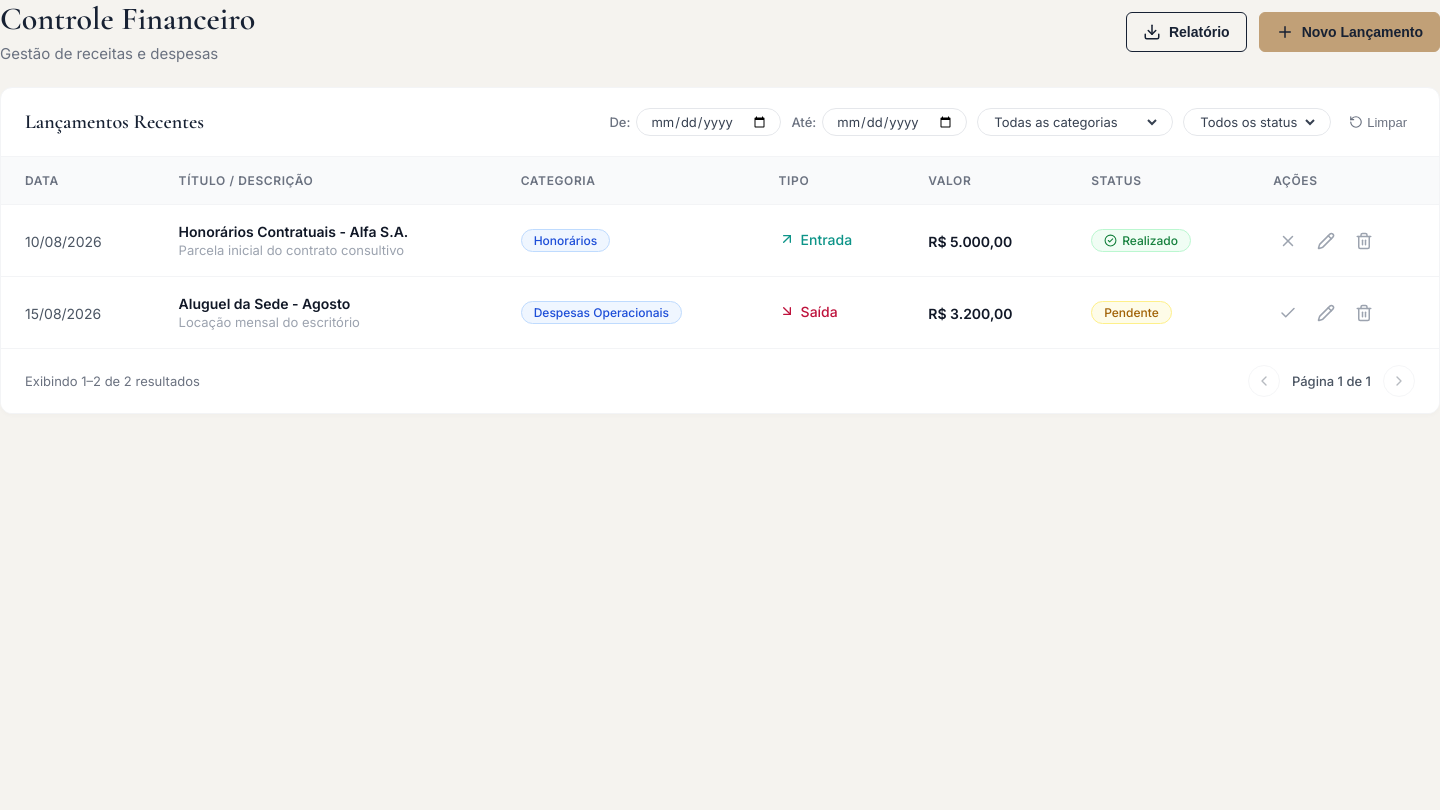
Financas Integration Tests (Full Frontend Stack) › alterna o status do lançamento (PATCH /lancamentos/:id/alternar-status) e exclui lançamento via DeleteLancamentoModal (DELETE /lancamentos/:id)
Expected: the text "Honorários Contratuais - Alfa S.A." is shown, [179,223,408,240]
Click the button named "Marcar como realizado": click(1288, 313) [1273,298,1303,328]
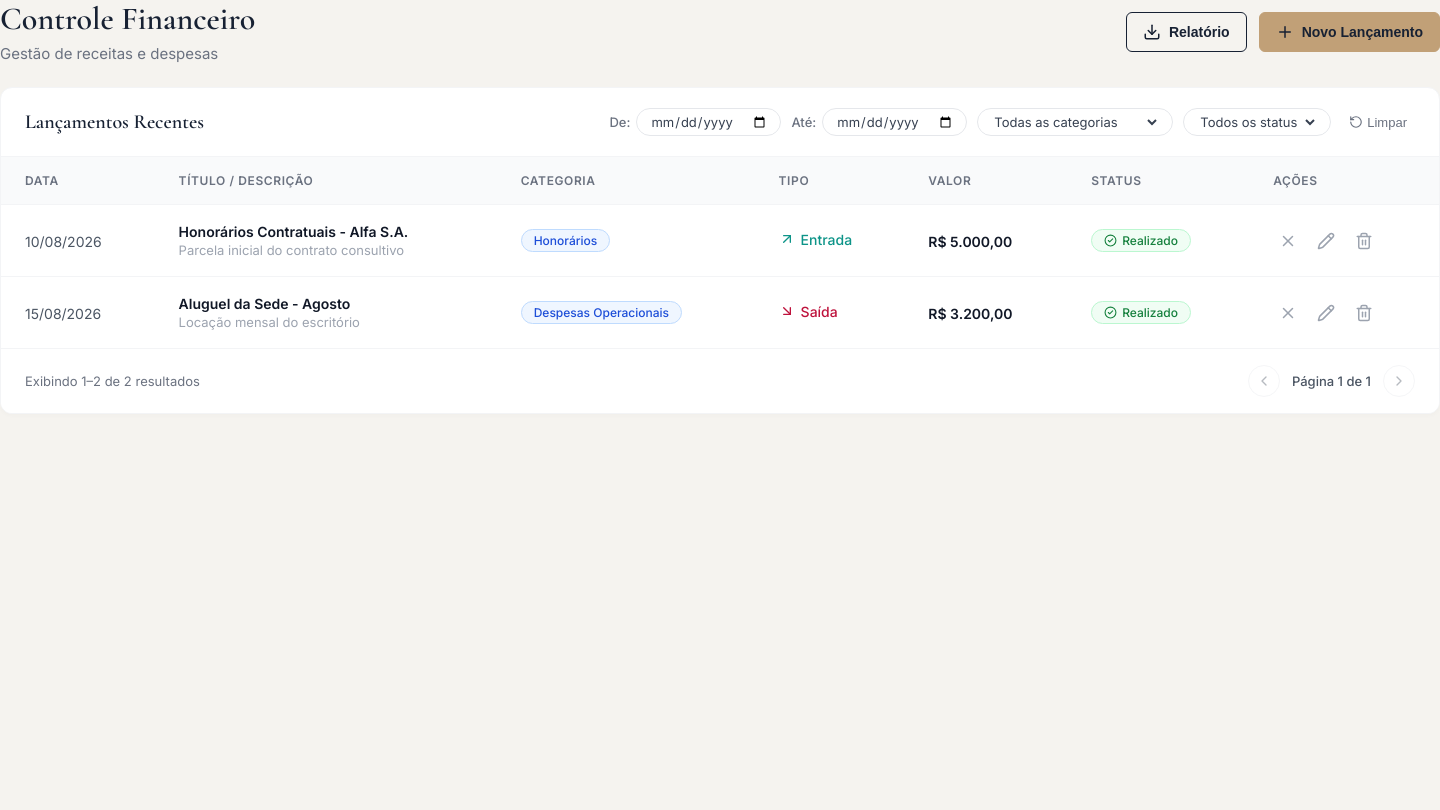
Click the button named "Excluir lançamento" in the row of "10/08/2026": click(1364, 241) [1349,226,1379,256]
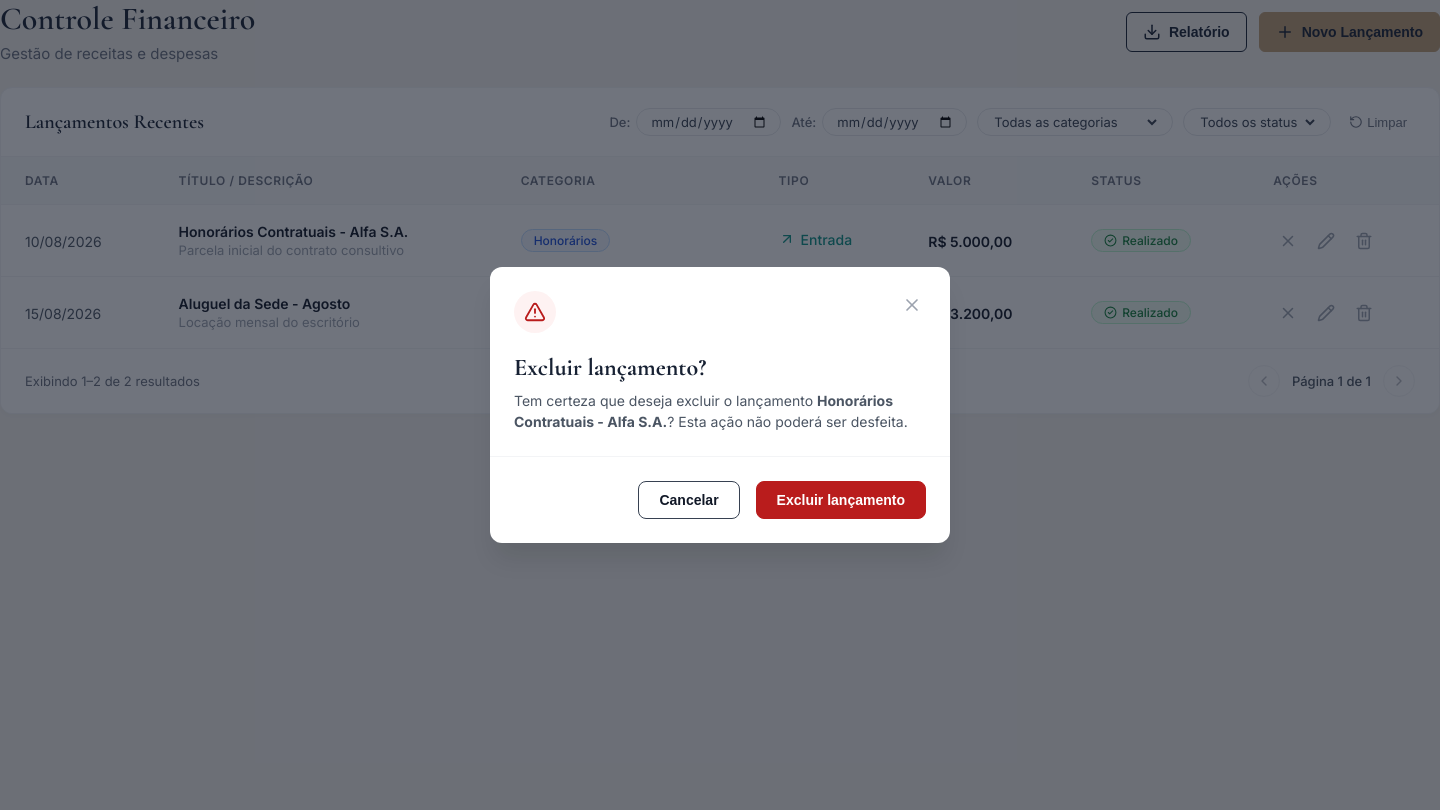
Expected: the heading "Excluir lançamento?" is shown, [514,353,706,382]
Expected: the text "Honorários Contratuais - Alfa S.A." is shown, [514,392,893,430]
Click the button "Excluir lançamento": click(841, 500) [756,481,926,519]
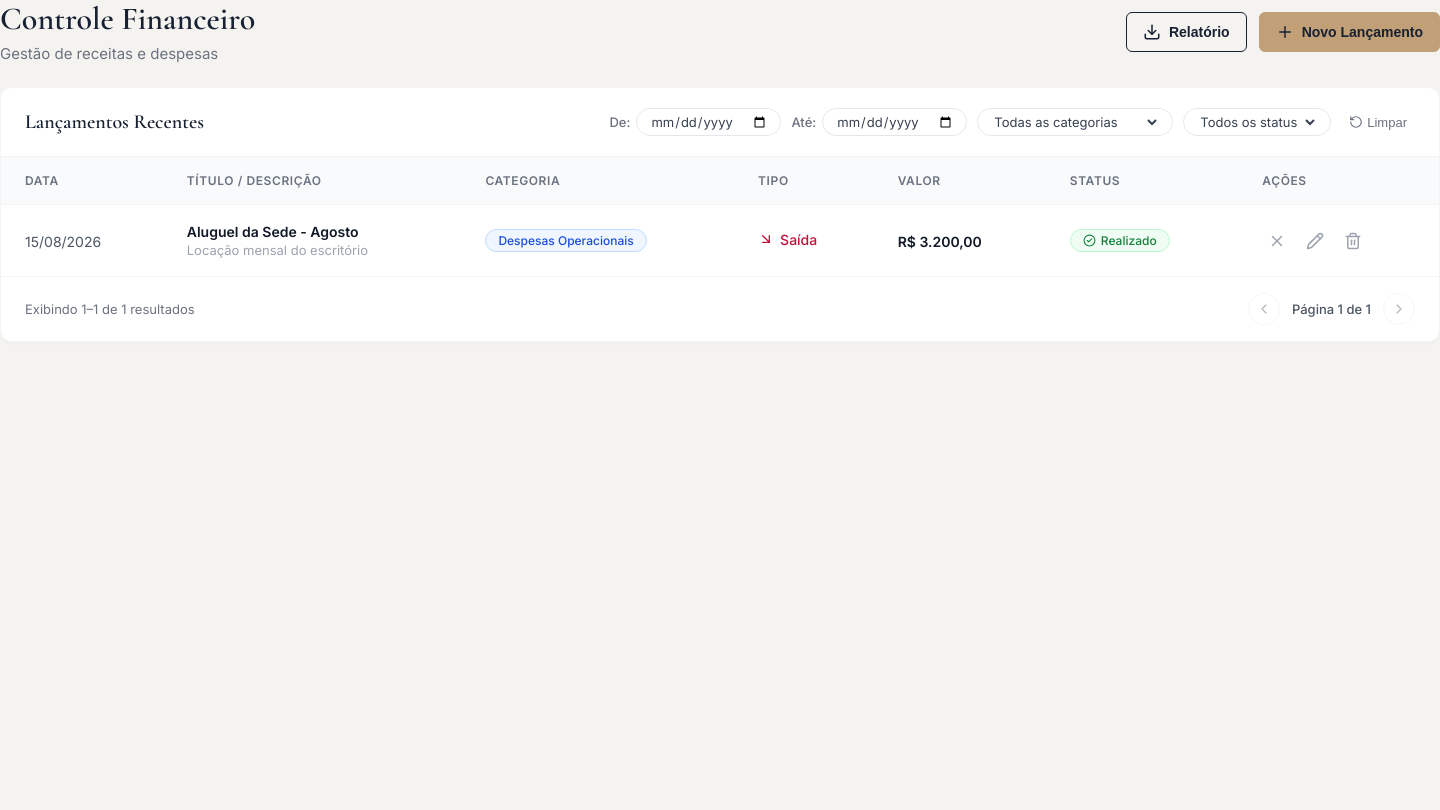
Expected: the text "Honorários Contratuais - Alfa S.A." is gone
